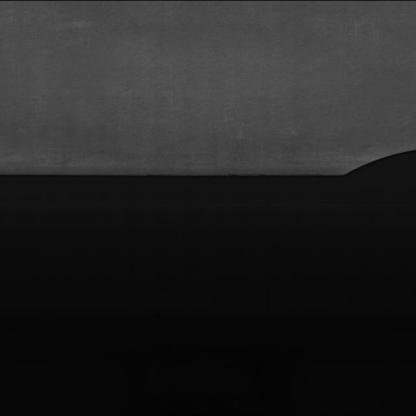crescent_gap: (326, 138, 416, 190)
